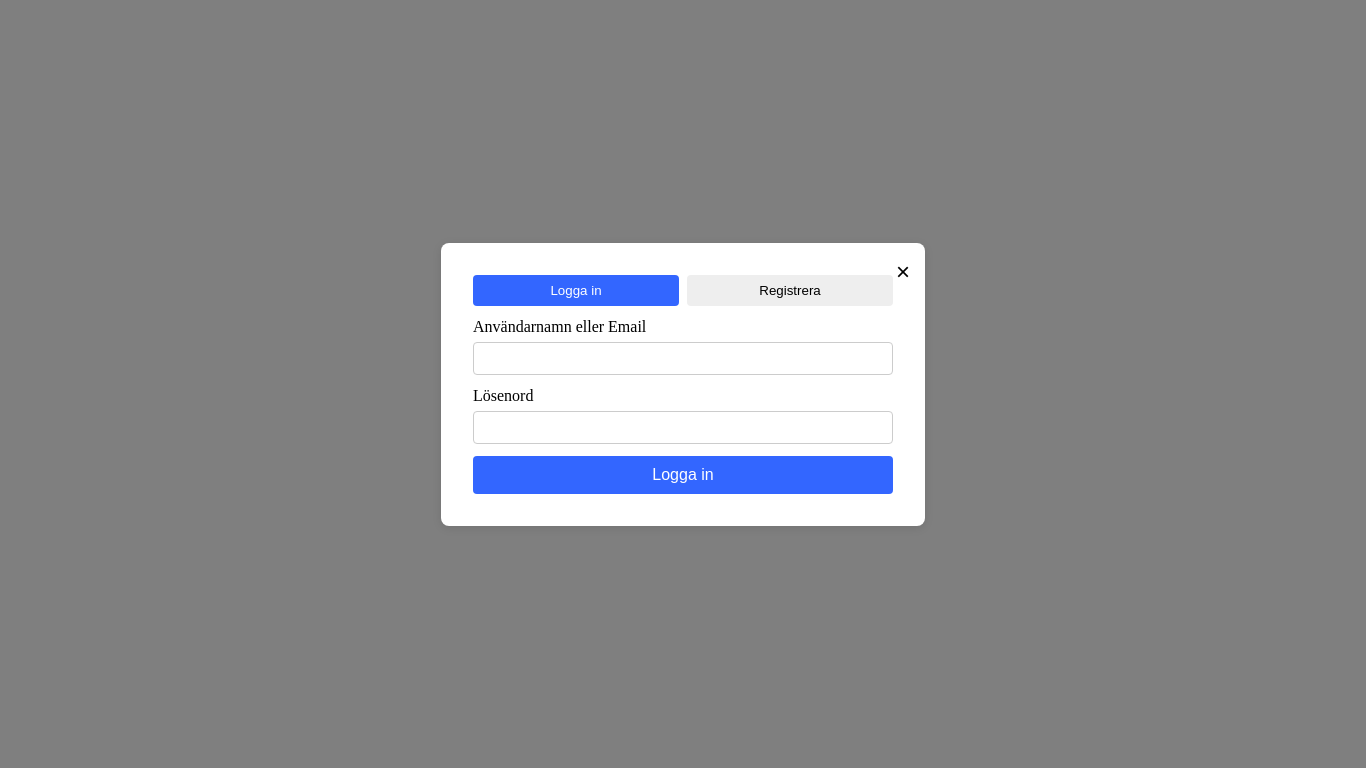
Test: LoginForm - Kan man logga in? › ska kunna registrera ny användare
This screenshot has width=1366, height=768.
# Växla till registrering
Click the button "Registrera": (790, 291) [687,275,893,306]
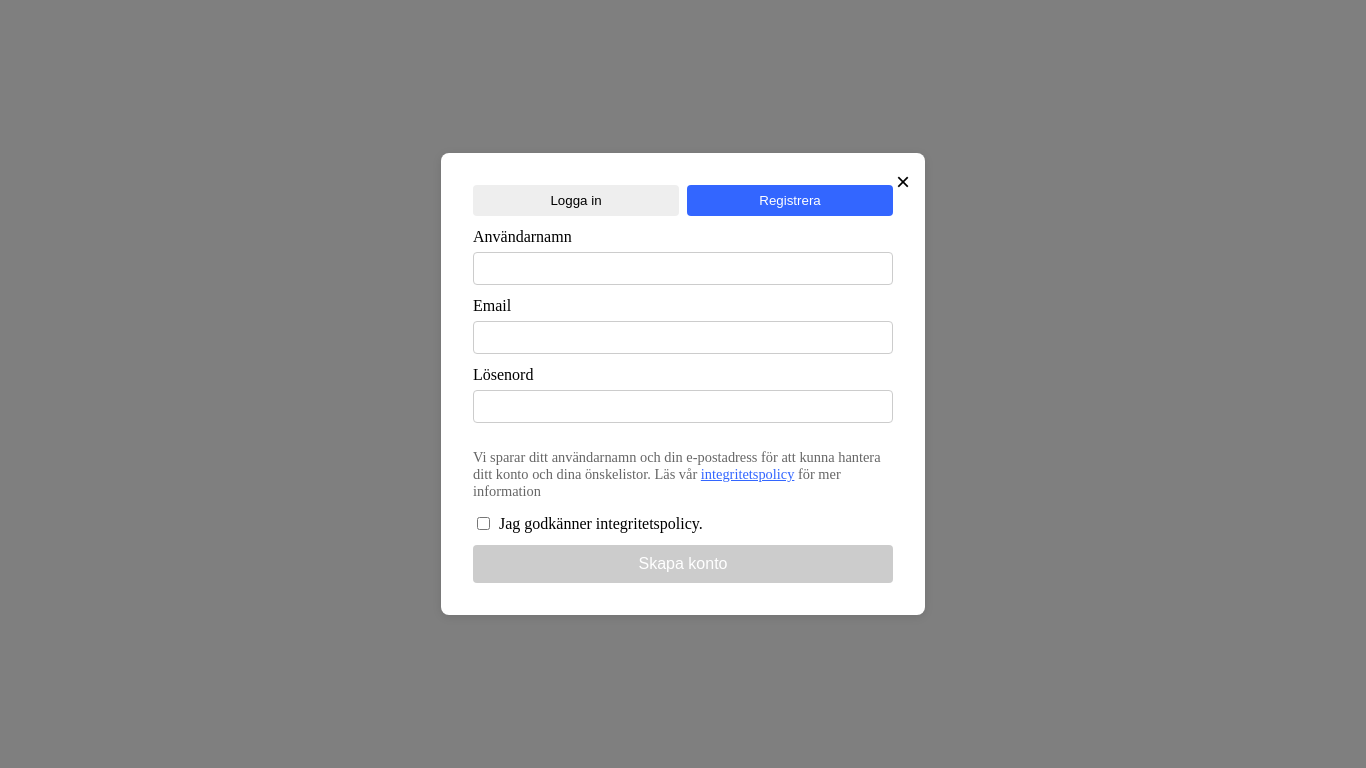
# Fyll i formulär
In the field labelled "Användarnamn": (683, 269) [473,252,893,285], type "newuser"
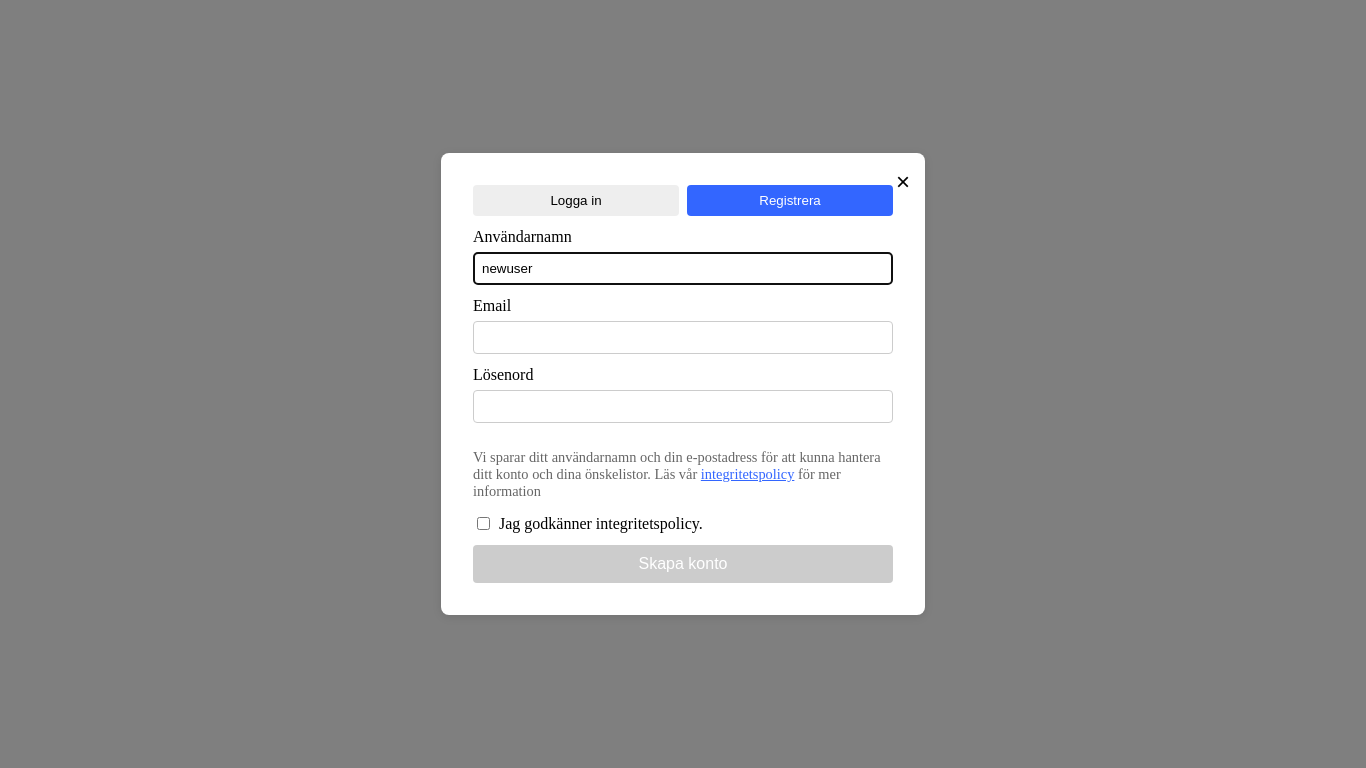
In the field labelled "Email": (683, 338) [473,321,893,354], type "new@example.com"
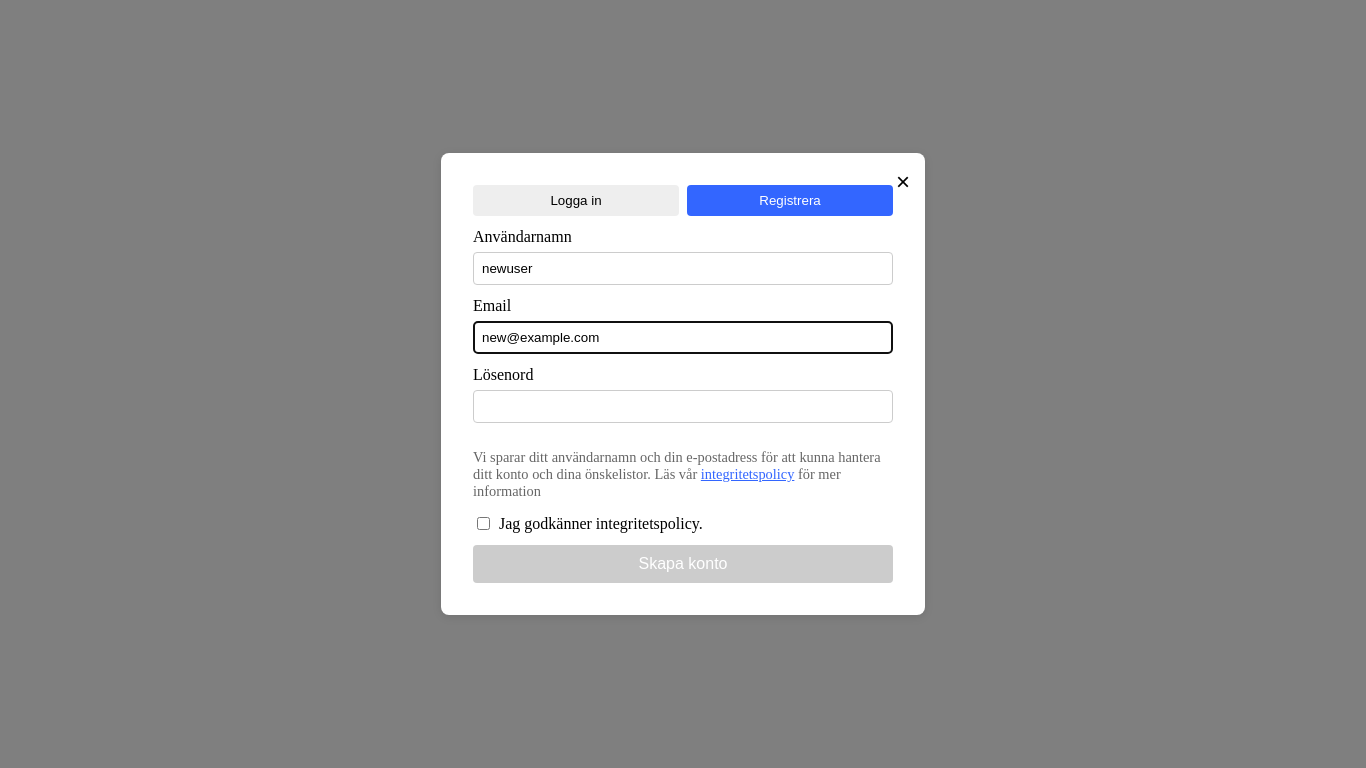
In the password field labelled "Lösenord": (683, 407) [473,390,893,423], type "password123"
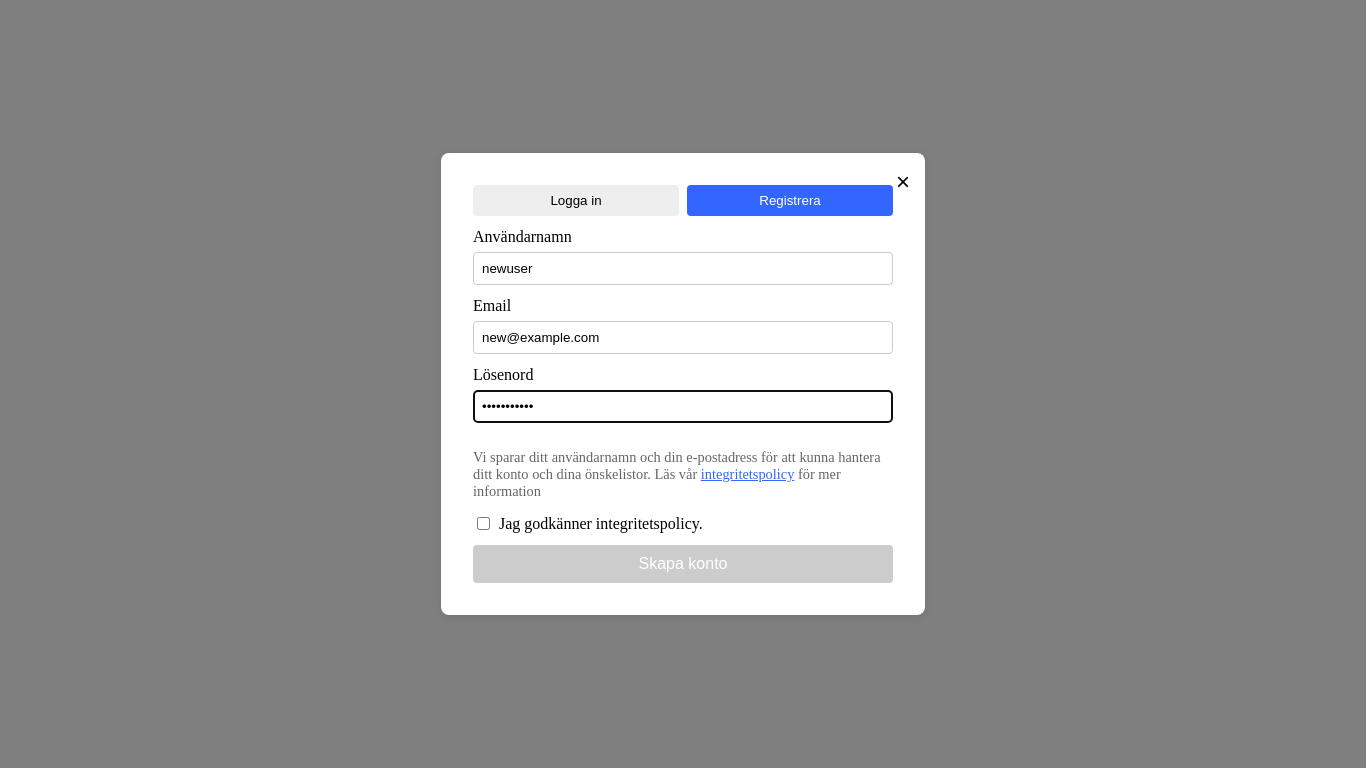
Check the checkbox: (484, 524) [477,517,490,530]
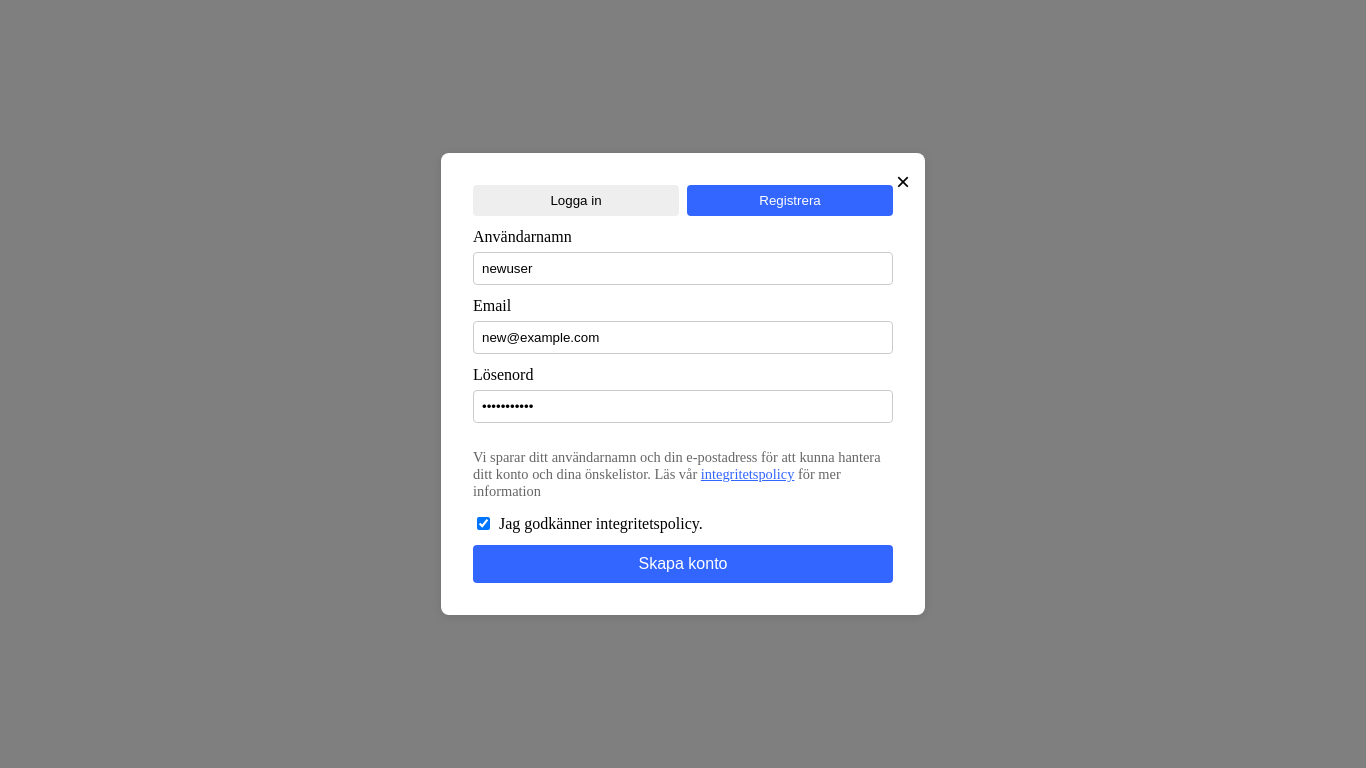
Click the submit button: (683, 564) [473,545,893,583]
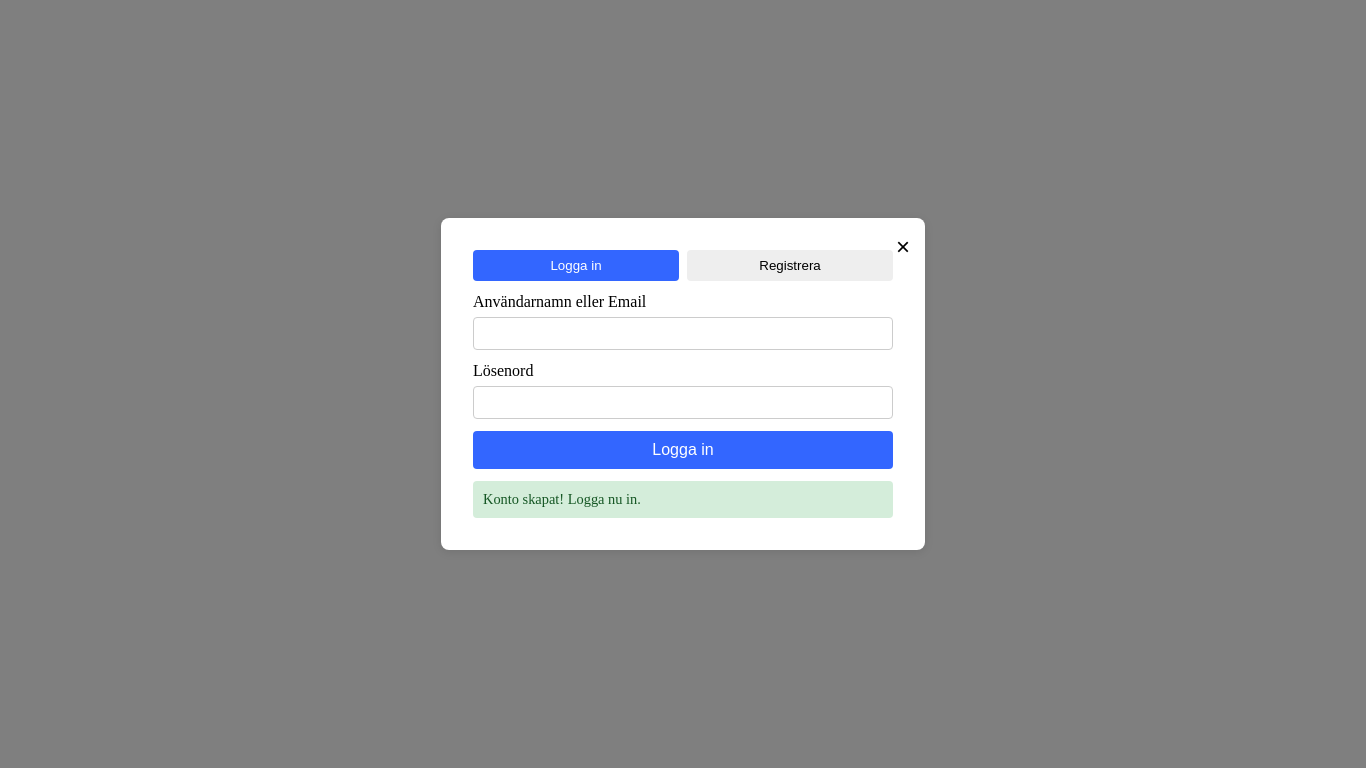
Check: the text "Konto skapat" is shown, box [483,491,641,507]
